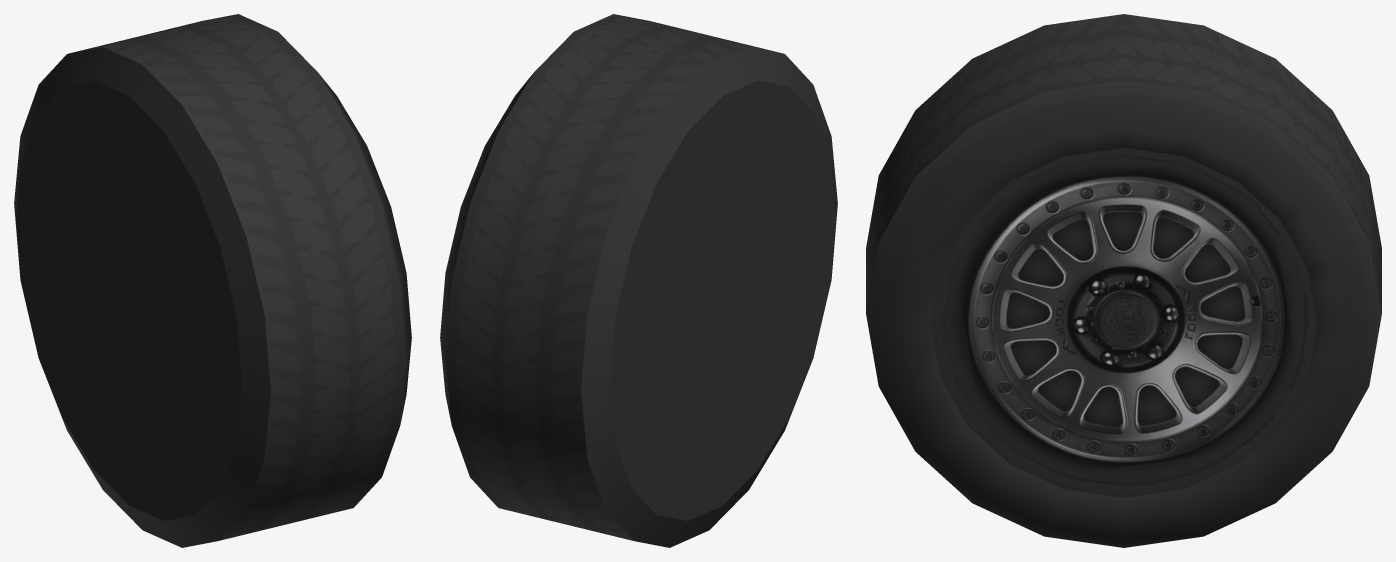
File: Car_Tire_Off_Road.fbx
3 renders of one model, left to right at view 1: azimuth 30°, elevation 25°; view 2: azimuth 150°, elevation 25°; view 3: azimuth 270°, elevation 25°, orthographic.
Visible parts, largest first — view 1: Car_Tire_Offroad; view 2: Car_Tire_Offroad; view 3: Car_Tire_Offroad.
Boxes of the visible parts, left/top/right/bottom form: Car_Tire_Offroad: left=14, top=14, right=411, bottom=547; Car_Tire_Offroad: left=440, top=14, right=837, bottom=547; Car_Tire_Offroad: left=866, top=14, right=1381, bottom=547.
Bounding box in the file's own units: 28 × 71.5 × 71.5.
1 material, 1 textured.
